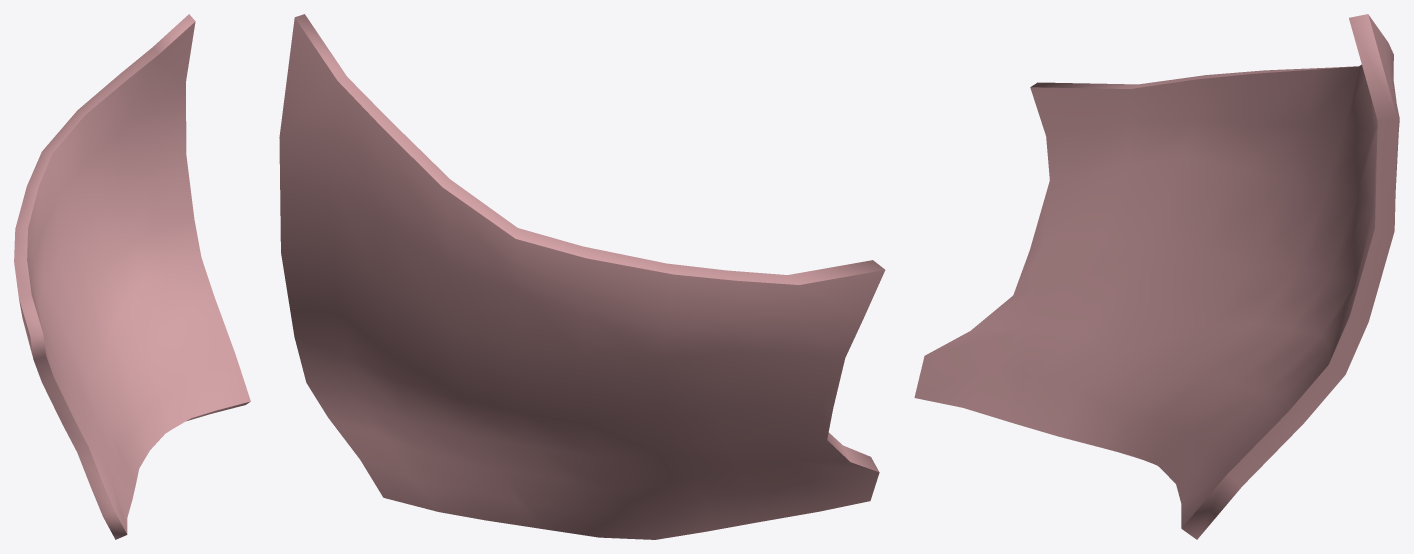
The picture shows the model from 3 angles, left to right: view 1: azimuth 30°, elevation 25°; view 2: azimuth 150°, elevation 25°; view 3: azimuth 270°, elevation 25°; orthographic projection. The views are drawn at different scales.
Visible parts, largest first — view 1: ZA_353708486364b6ed; view 2: ZA_353708486364b6ed; view 3: ZA_353708486364b6ed.
Part boxes in pixels (left/top/right/bottom): ZA_353708486364b6ed: left=14, top=14, right=250, bottom=539; ZA_353708486364b6ed: left=279, top=14, right=885, bottom=539; ZA_353708486364b6ed: left=914, top=14, right=1399, bottom=539.
Size of the model in its own units: 0.0704 by 0.0911 by 0.0731.
